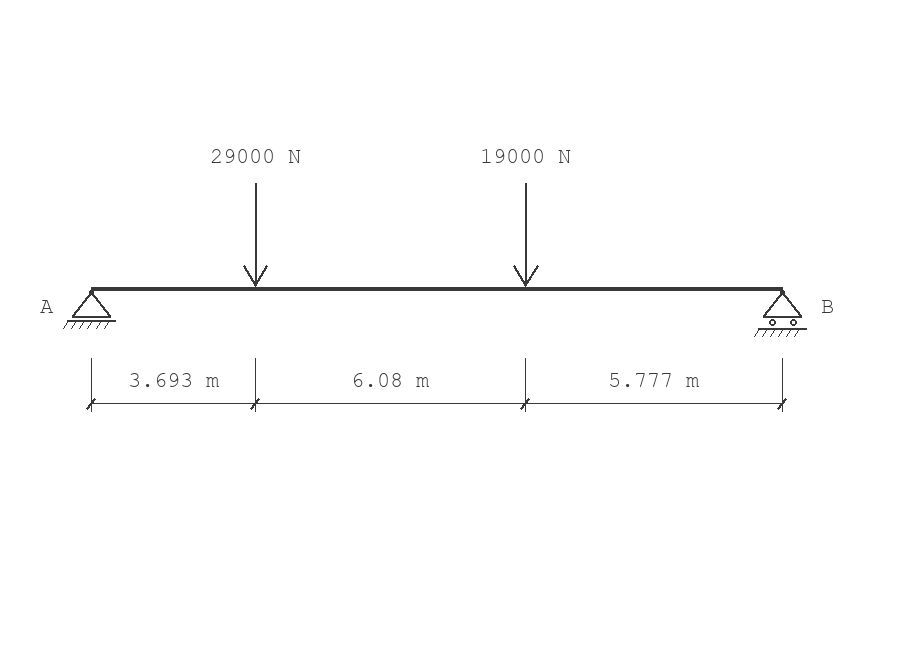pin_support: (63, 290, 116, 329)
point_load: (513, 183, 539, 287), (243, 183, 268, 287)
roller_support: (754, 290, 807, 337)
